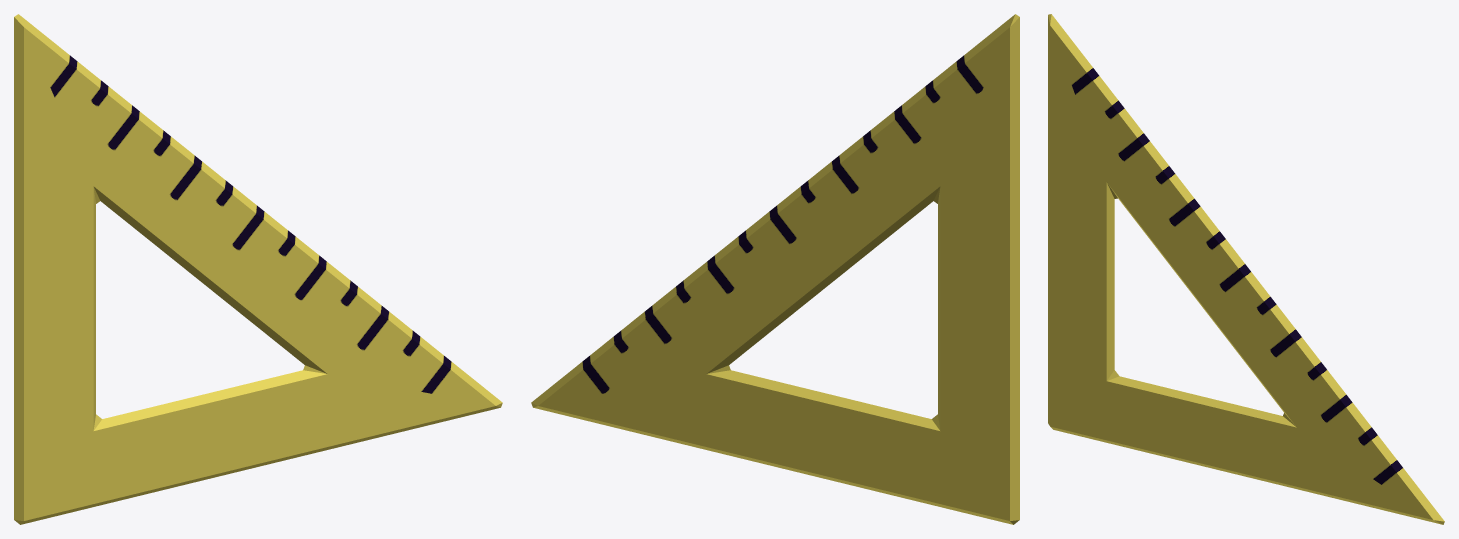
Rendered from Tri_Ruler.fbx.
3 views of the same model, side by side, from view 1: azimuth 30°, elevation 25°; view 2: azimuth 150°, elevation 25°; view 3: azimuth 330°, elevation 25° (orthographic). The views are drawn at different scales.
Parts seen in each view (by area): view 1: Plane; view 2: Plane; view 3: Plane.
Part boxes in pixels (x1,y1,x2,y2): Plane: (14, 14, 502, 524); Plane: (531, 14, 1019, 524); Plane: (1048, 14, 1444, 524).
Size of the model in its own units: 19.82 by 19.82 by 0.5.
